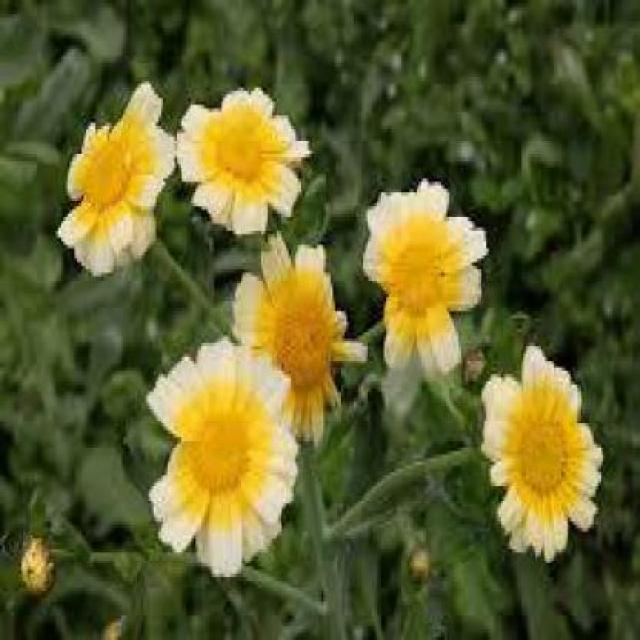flower: (137, 318, 298, 574), (223, 227, 359, 444), (470, 346, 605, 560), (156, 75, 324, 243), (52, 87, 179, 284), (360, 183, 485, 372)
